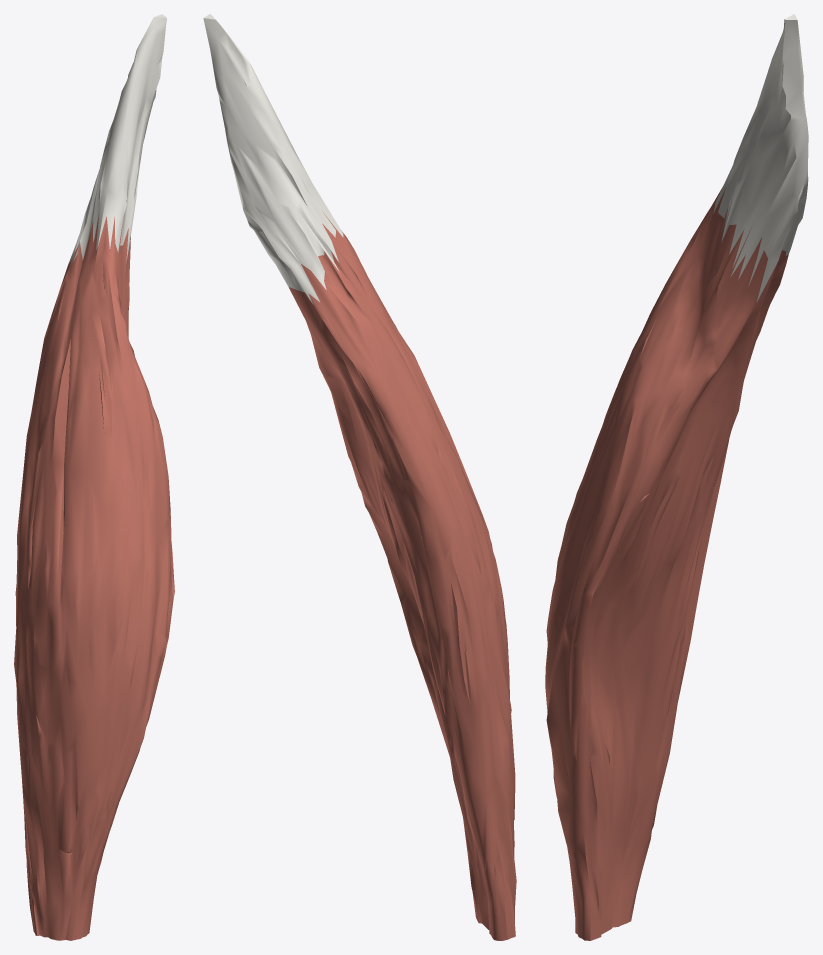
Rendered from brachio-radial.glb.
3 renders of one model, left to right at view 1: azimuth 30°, elevation 25°; view 2: azimuth 150°, elevation 25°; view 3: azimuth 270°, elevation 25°, orthographic. The views are drawn at different scales.
Visible parts, largest first — view 1: brachio-radial; view 2: brachio-radial; view 3: brachio-radial.
Part boxes in pixels (x1=…): brachio-radial: x1=14, y1=14, x2=174, y2=940; brachio-radial: x1=203, y1=14, x2=516, y2=940; brachio-radial: x1=545, y1=14, x2=808, y2=940.
Size of the model in its own units: 0.0624 by 0.24 by 0.0564.
